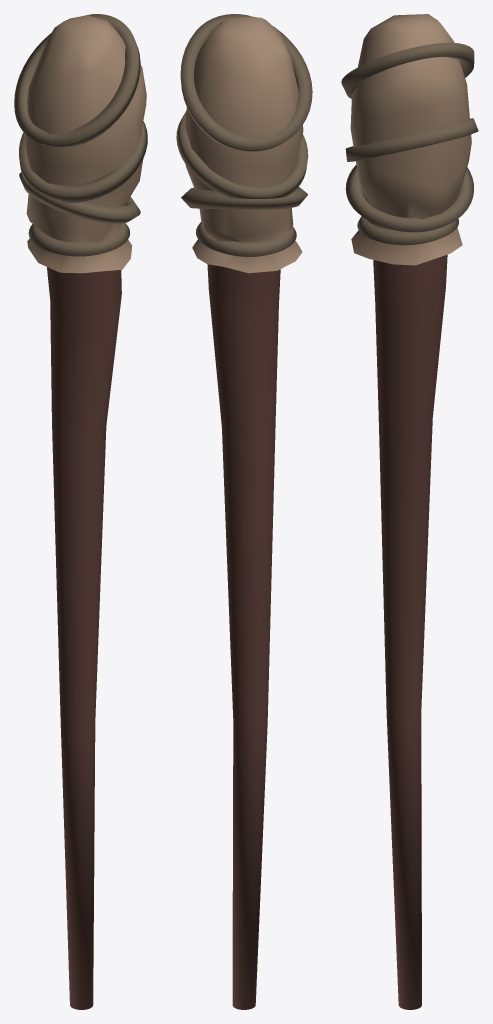
File: Torch.fbx
The picture shows the model from 3 angles, left to right: view 1: azimuth 90°, elevation 25°; view 2: azimuth 150°, elevation 25°; view 3: azimuth 330°, elevation 25°; orthographic projection.
Parts seen in each view (by area): view 1: Torch; view 2: Torch; view 3: Torch.
Part boxes in pixels (bbox=[...]): Torch: bbox=[14, 14, 147, 1009]; Torch: bbox=[176, 14, 312, 1009]; Torch: bbox=[341, 14, 478, 1009].
Bounding box in the file's own units: 10.87 × 87.17 × 10.76.
